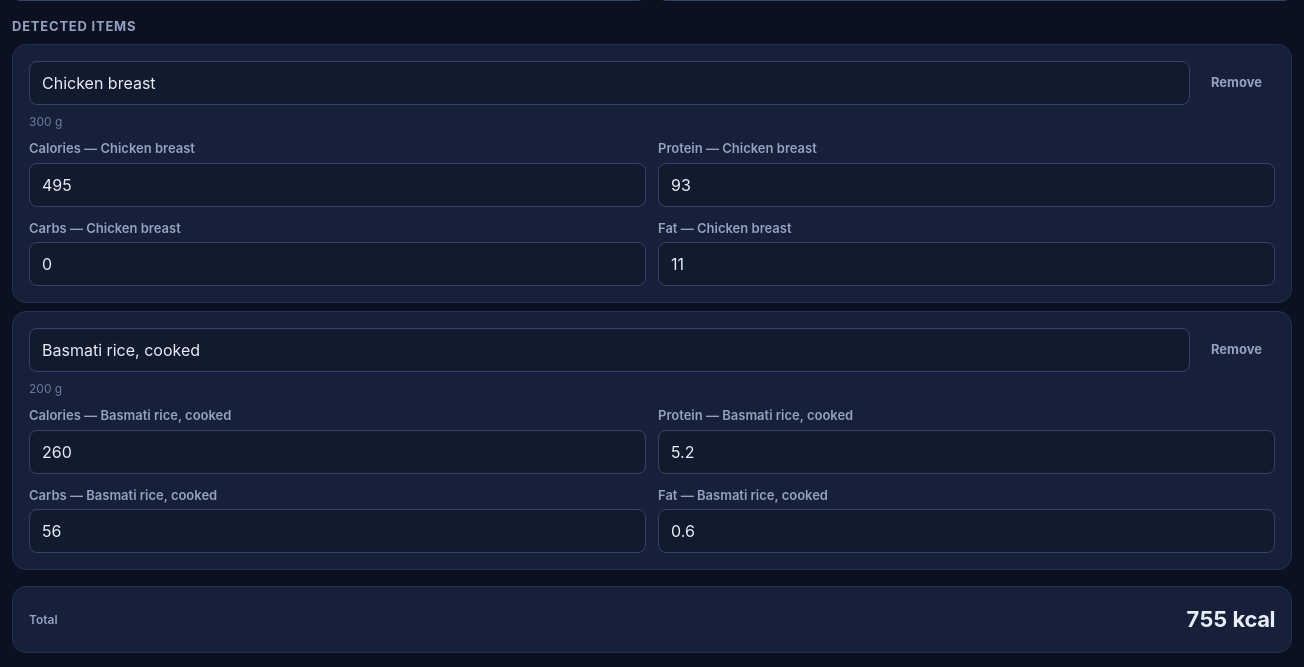
Test case: AiReviewForm › lets the user drop an item the model got wrong
(page scrolled)
Click the button with aria-label "Remove Basmati rice, cooked" at [1236, 350], box x1=1198 y1=332 x2=1275 y2=368
(page scrolled)
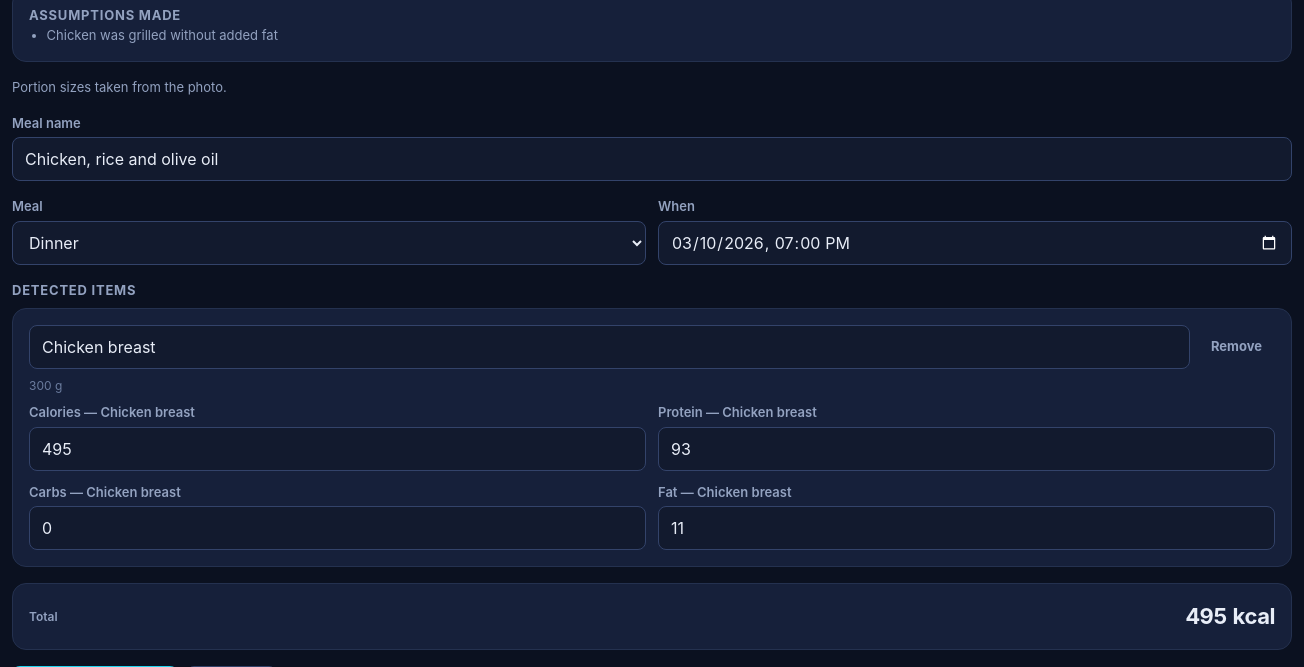
Expected: the label labelled "Calories — Basmati rice, cooked" is gone
Expected: the text "495 kcal" is shown, x1=1186 y1=600 x2=1275 y2=633
